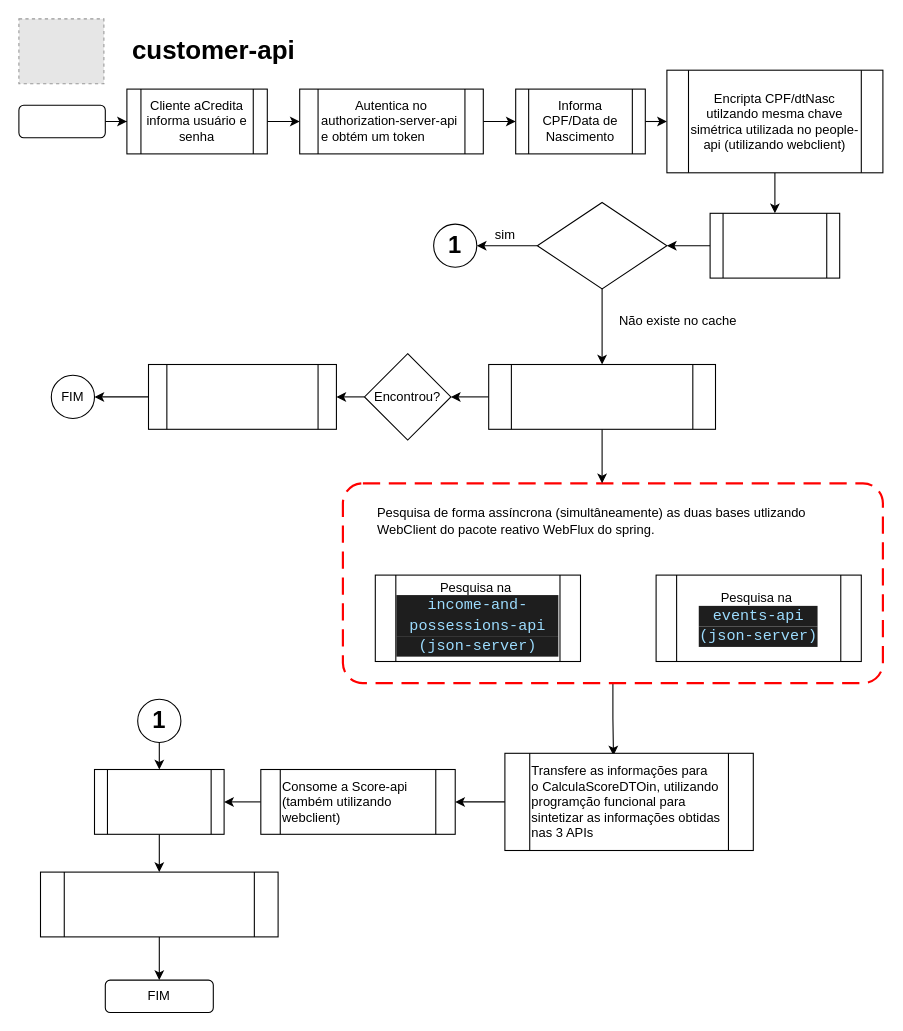
Some shapes in this 903 by 1031 pixel diagram are drawn without their labels. Grey dashed boxes stand in for pictures. Each missing label, with the box of its shape:
consome application-log-api via RebbitMQ: (39, 871, 278, 937)
Existe no cache: (536, 201, 667, 289)
Informa cliente aCredita que "CPF inexistente": (147, 363, 336, 429)
Inicio: (18, 104, 105, 138)
Pesquisa na people-api (json-server): (488, 363, 716, 429)
Pesquisa no cache de acordo com o TTL: (709, 212, 840, 278)
Retorna score ao cliente aCredita: (93, 768, 224, 834)
